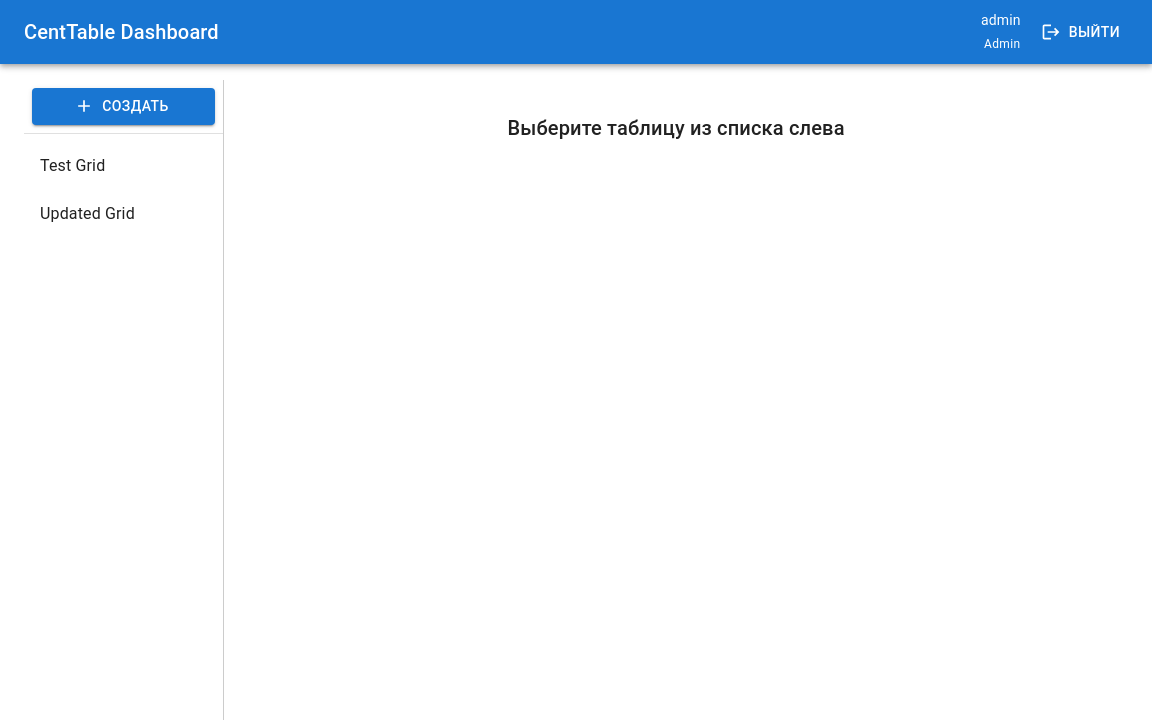
Test: Dashboard › changes column type in create form
Click the button "Создать": (124,106) 32,88 -> 215,124
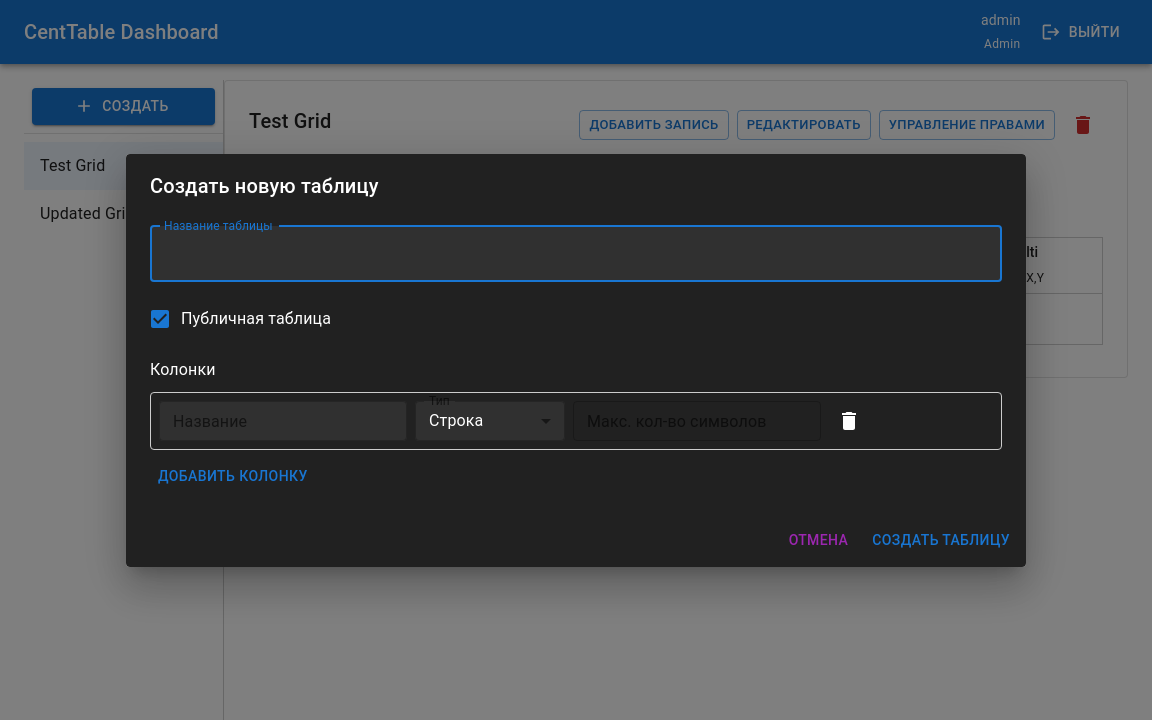
Press the mouse on the dropdown named "Тип": (456,420) 429,411 -> 484,430
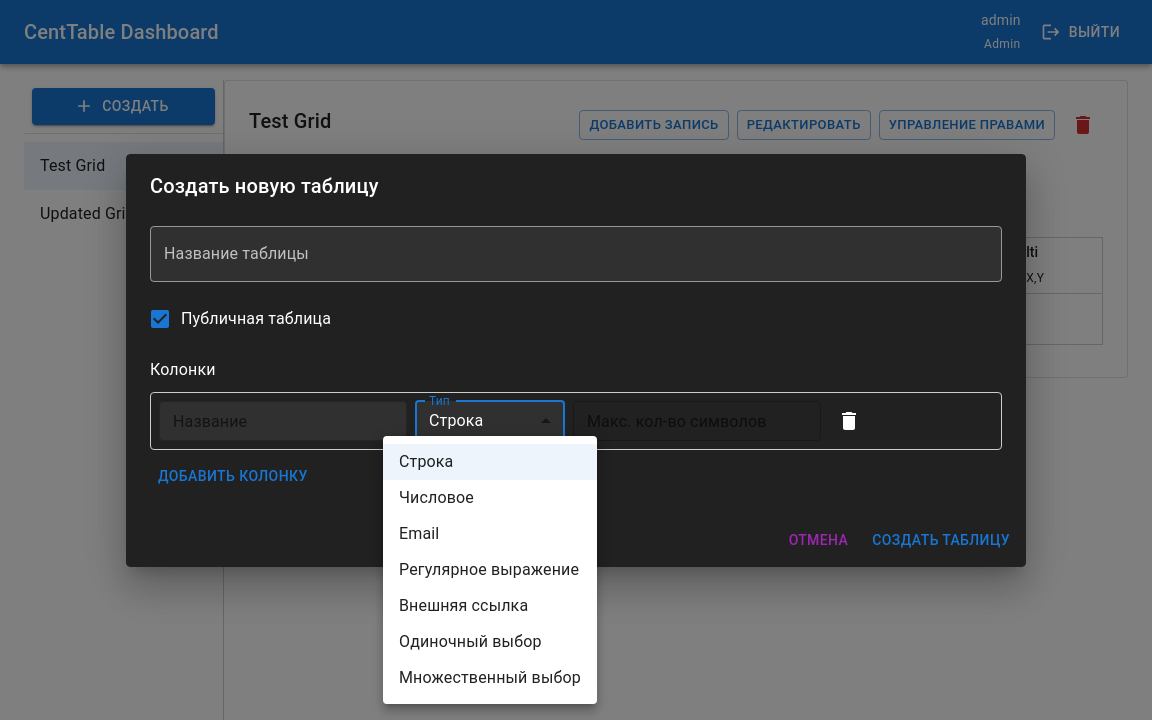
Click the option "Email": (419,534) 399,524 -> 439,543
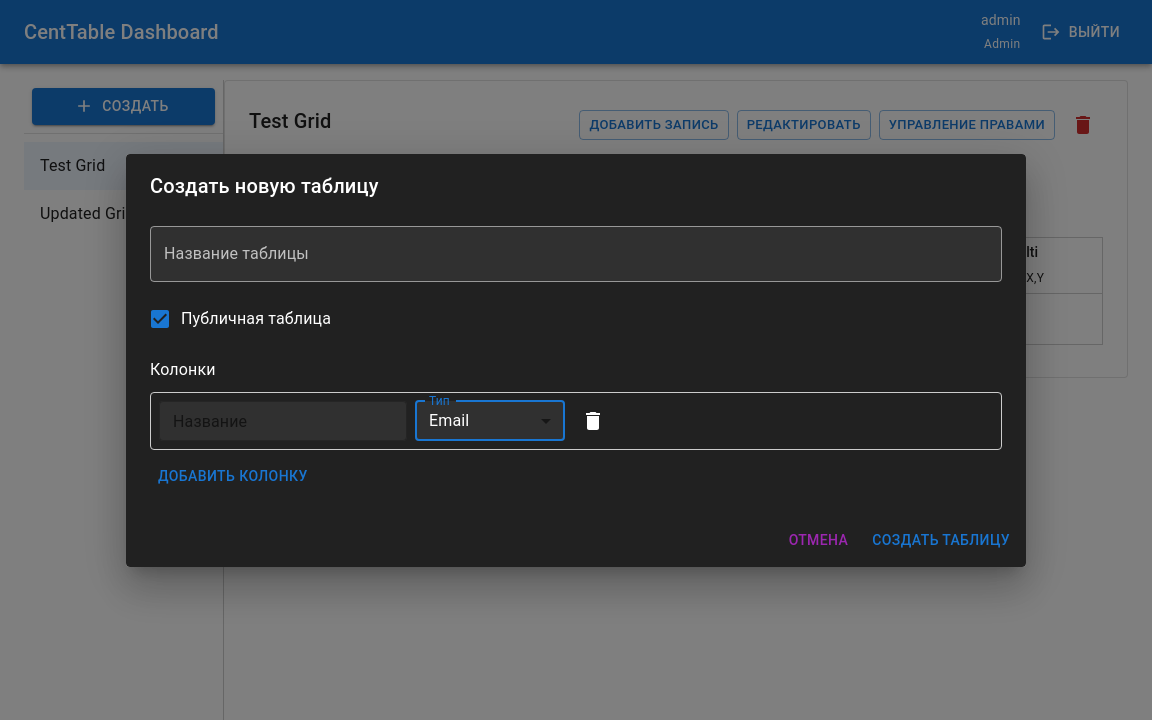
Check: the element showing "Email" is shown, box 415,400 -> 565,440
